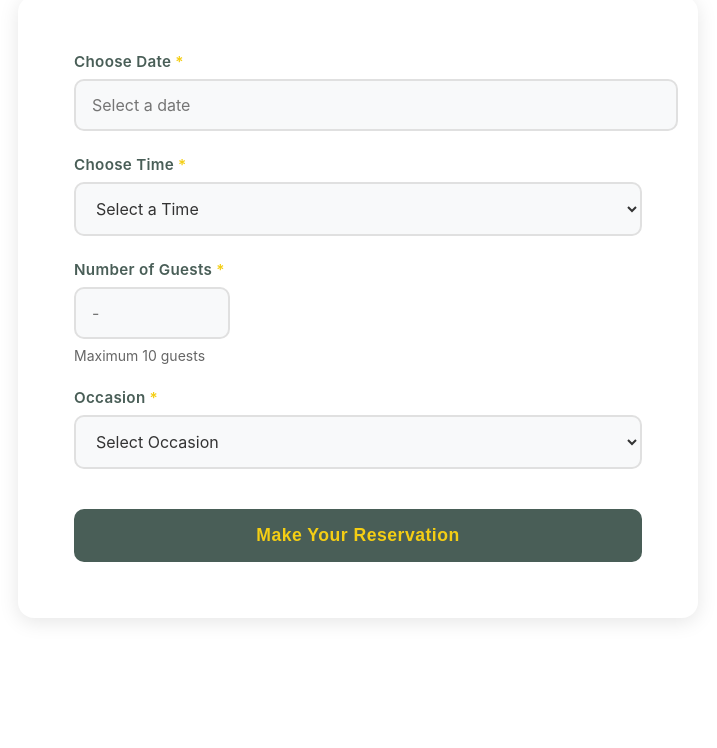
Test: BookingForm Component › Form Validation › shows error when date is not selected
Click the button "Make Your Reservation". click: x=358, y=536
box: [74,509,642,562]
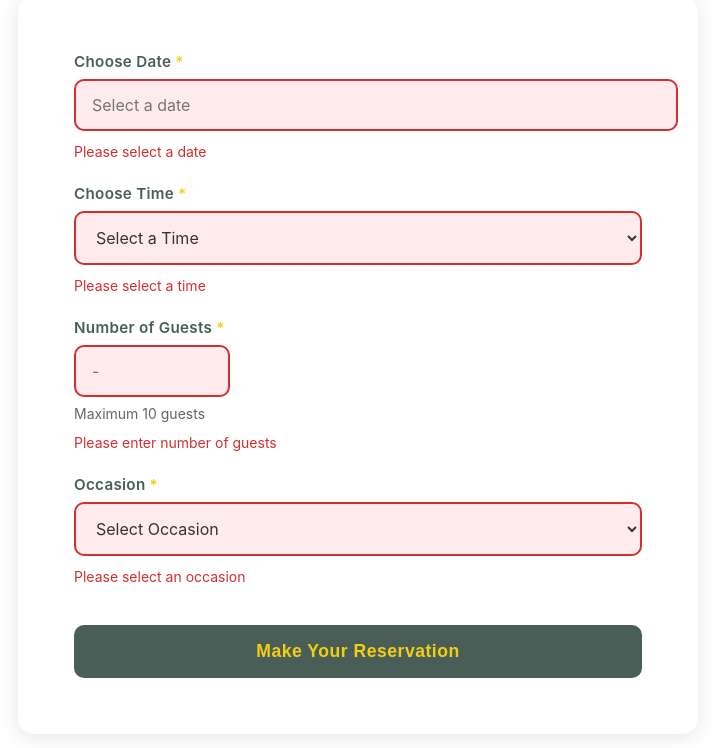
Now the text "Please select a date" is shown, box [74,143,206,160]
